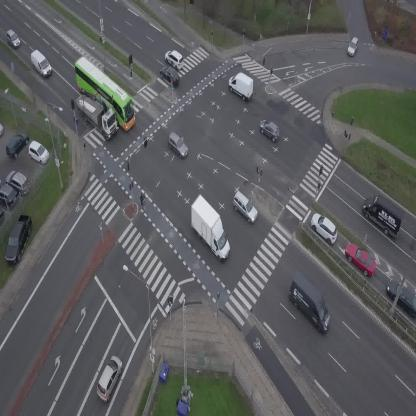bicycle: (137, 193, 148, 211)
bus: (63, 54, 146, 131)
car: (340, 237, 382, 281), (92, 353, 127, 403), (306, 209, 343, 247), (227, 190, 263, 225), (162, 130, 193, 160), (256, 116, 285, 144), (156, 61, 184, 89), (161, 46, 188, 72), (1, 28, 22, 51), (346, 36, 360, 57)
lorry: (178, 193, 243, 263), (278, 271, 343, 335), (68, 86, 126, 140), (354, 190, 411, 241), (224, 68, 259, 103), (26, 48, 56, 78)
